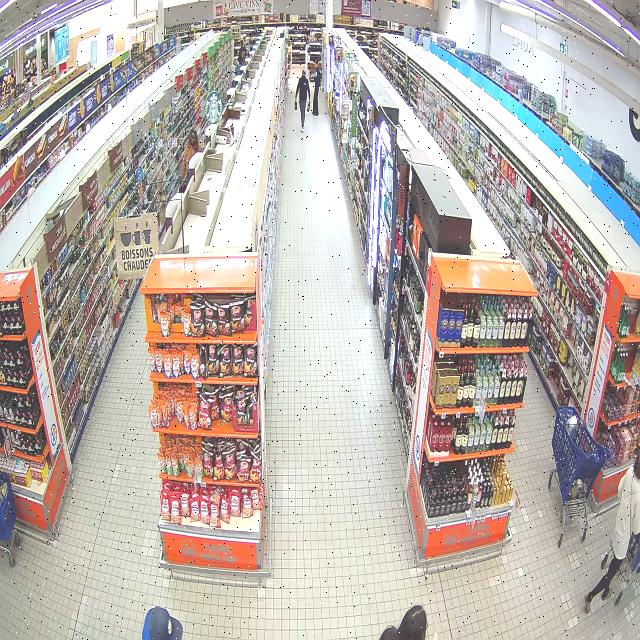article: (294, 100, 297, 111), (307, 103, 310, 112)
hands: (294, 99, 297, 103), (308, 100, 310, 103)
person: (585, 451, 640, 612), (295, 69, 310, 133)
